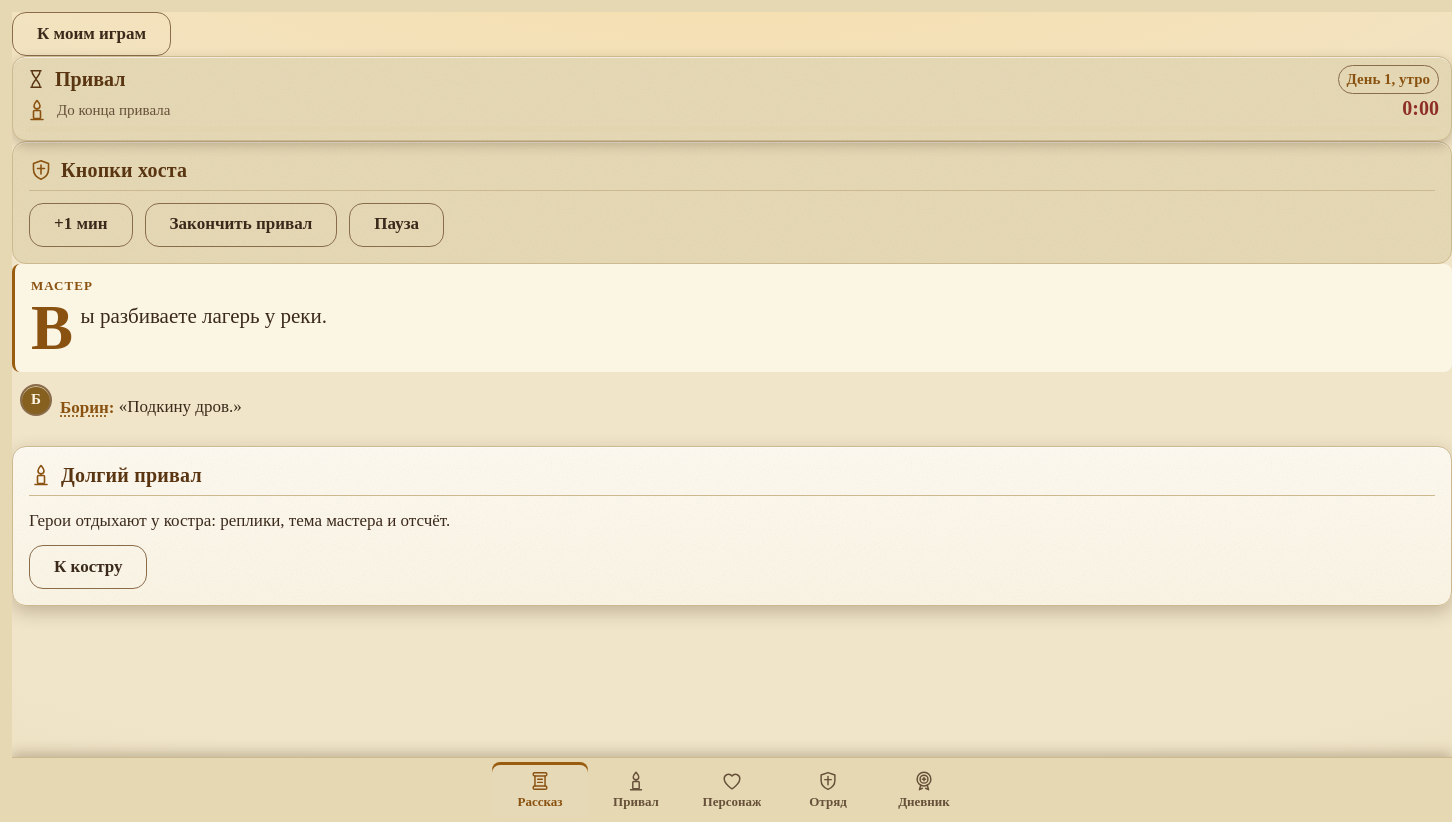
Scenario: обрыв связи на экране игры › плашка есть и на вкладке «Привал», в той же строке статуса
Click the tab "Привал" at (636, 790), box [588,762,684,818]
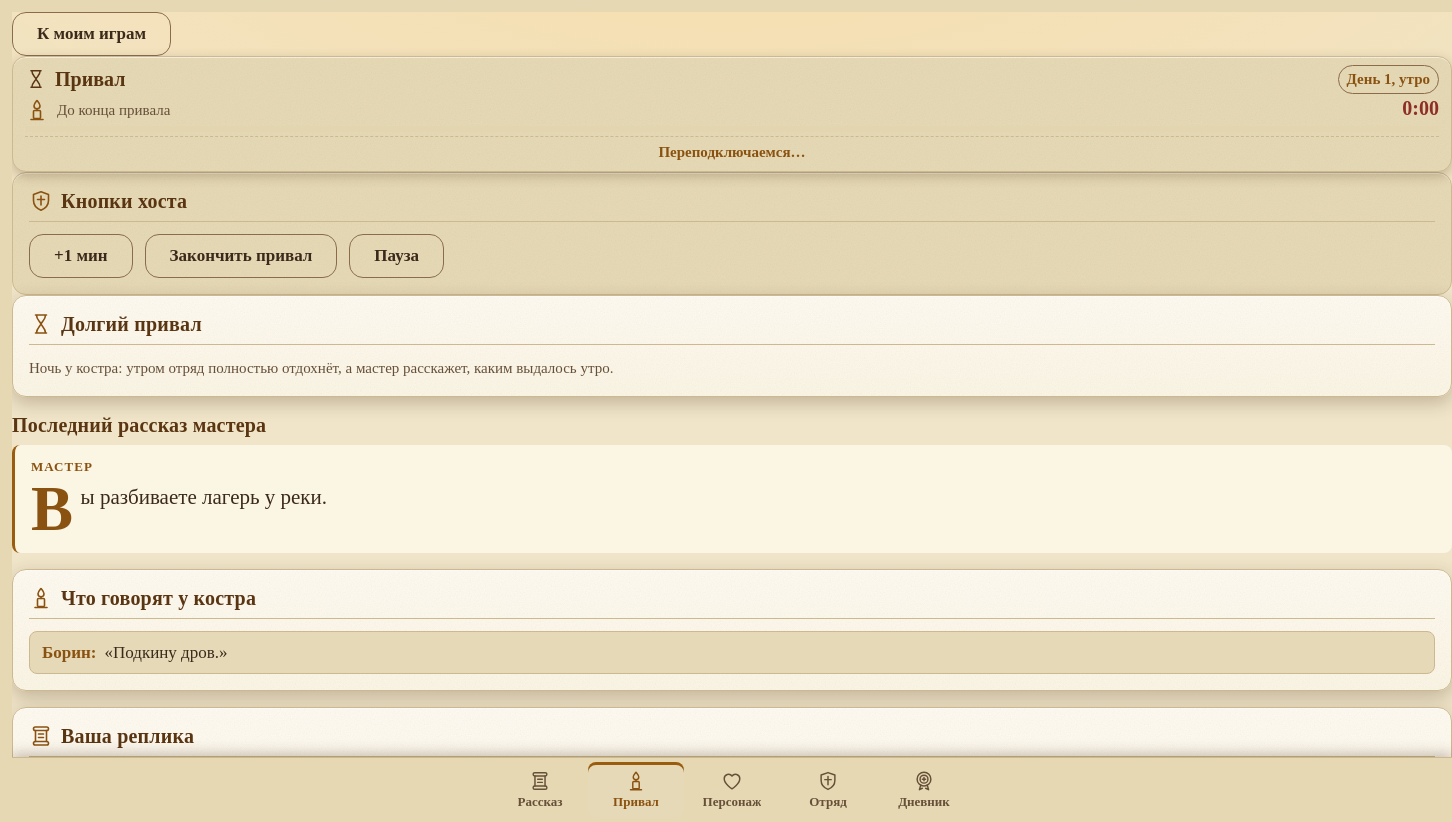
Expected: the element showing "Привал День 1, утро До конца привала 0:00 Переподключаемся…" is shown, [12,56,1451,172]
Expected: the text "Переподключаемся…" is shown, [25,136,1439,163]
